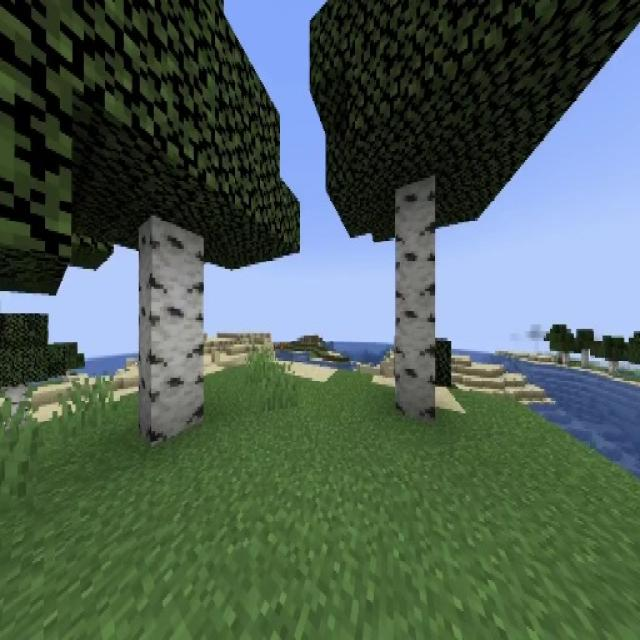birch: (311, 0, 640, 419), (21, 0, 301, 444)
birch_log: (138, 218, 204, 446), (396, 174, 434, 417)
